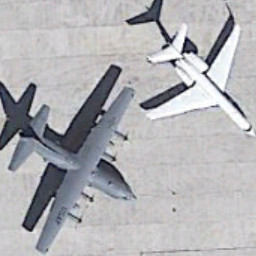Airplane: (2, 73, 143, 254), (139, 12, 256, 151)
